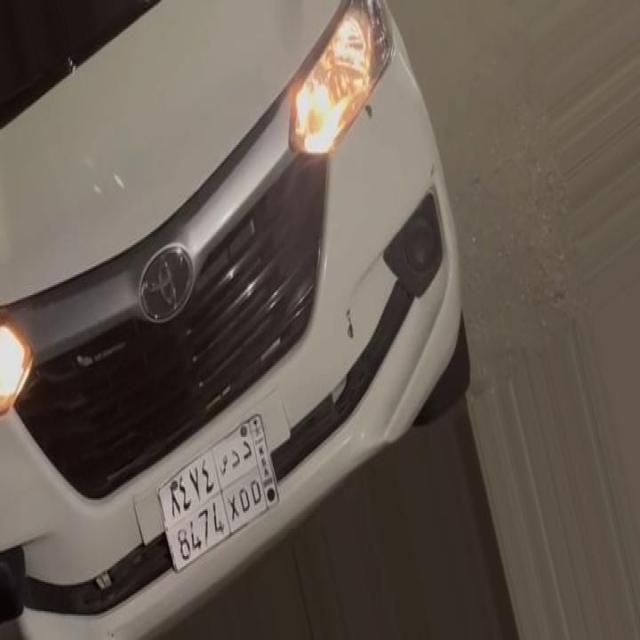Car-plate: (141, 389, 297, 596)
